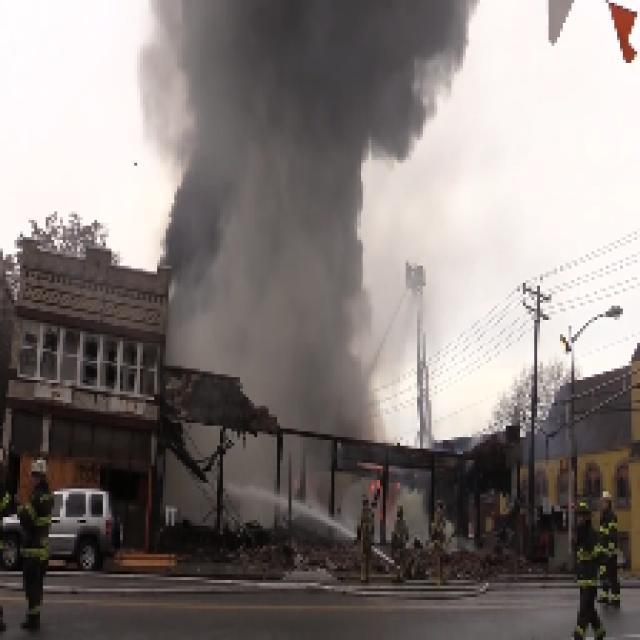Smoke: (188, 6, 350, 396)
